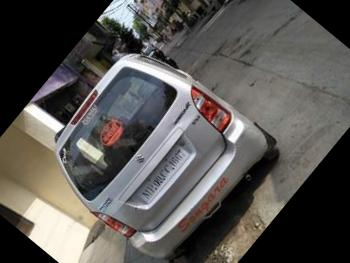plate: (126, 133, 206, 220)
